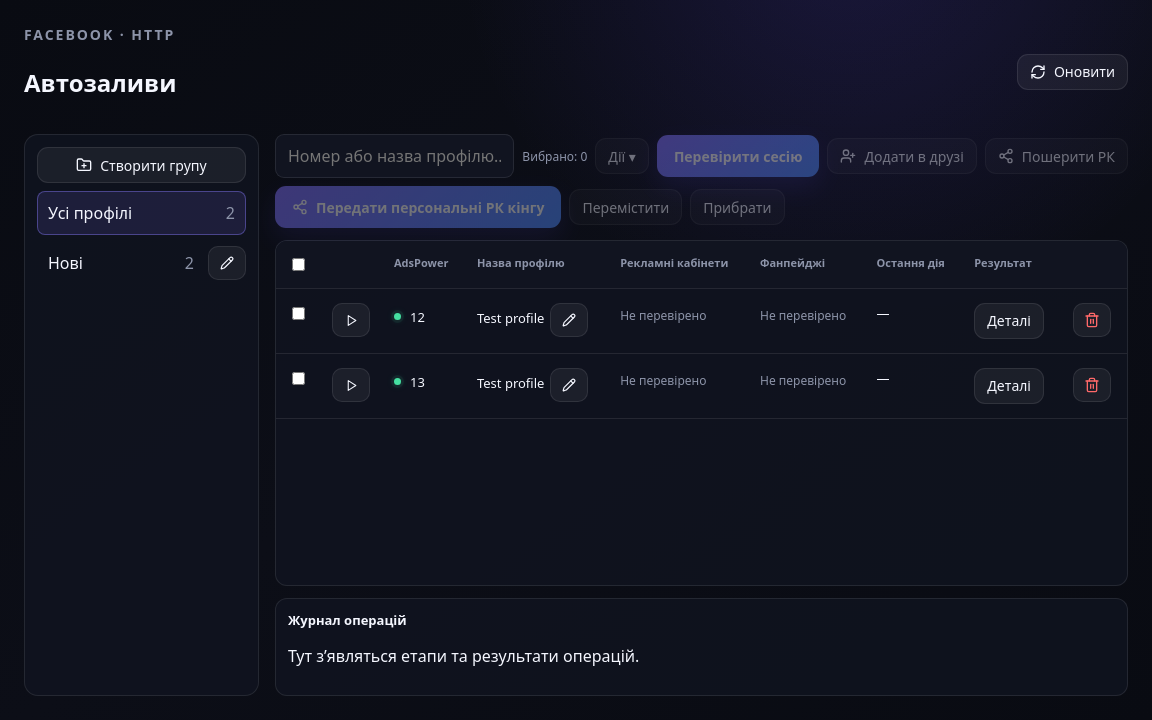
Scenario: дія доступна лише для одного вибраного профілю
The image size is (1152, 720).
Click the checkbox named "Вибрати профіль 12" at (298, 314), box left=292, top=307, right=305, bottom=320
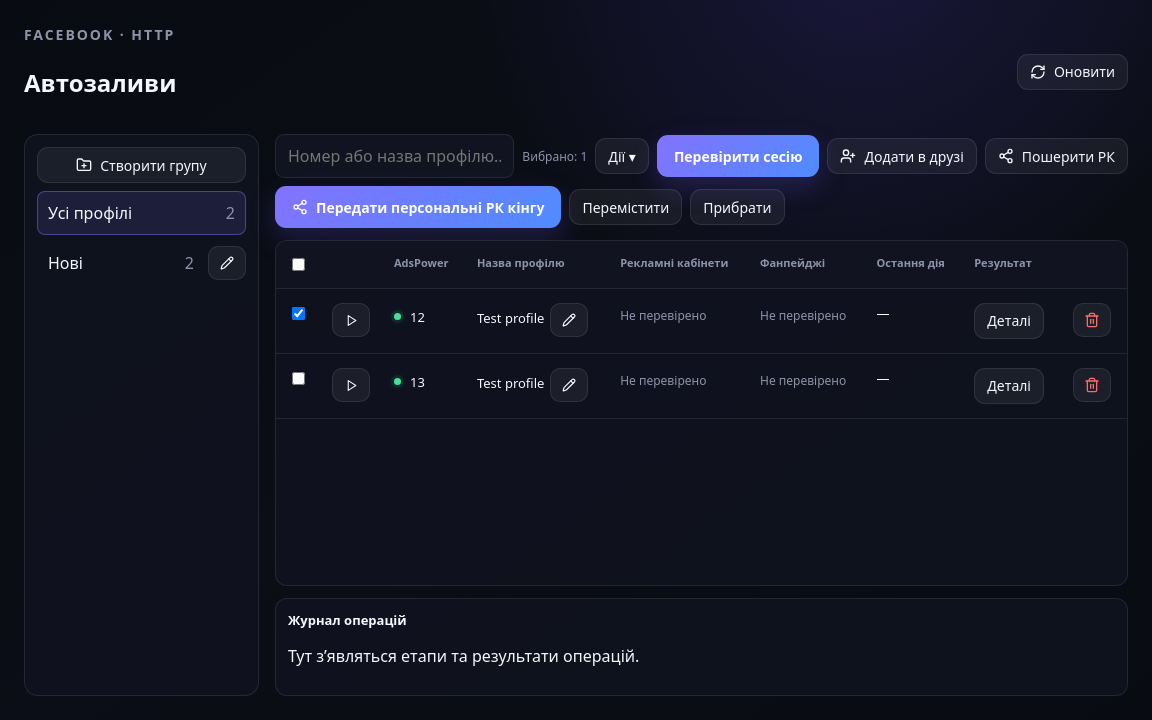
Click the button "Дії ▾" at (622, 156), box left=595, top=138, right=649, bottom=174
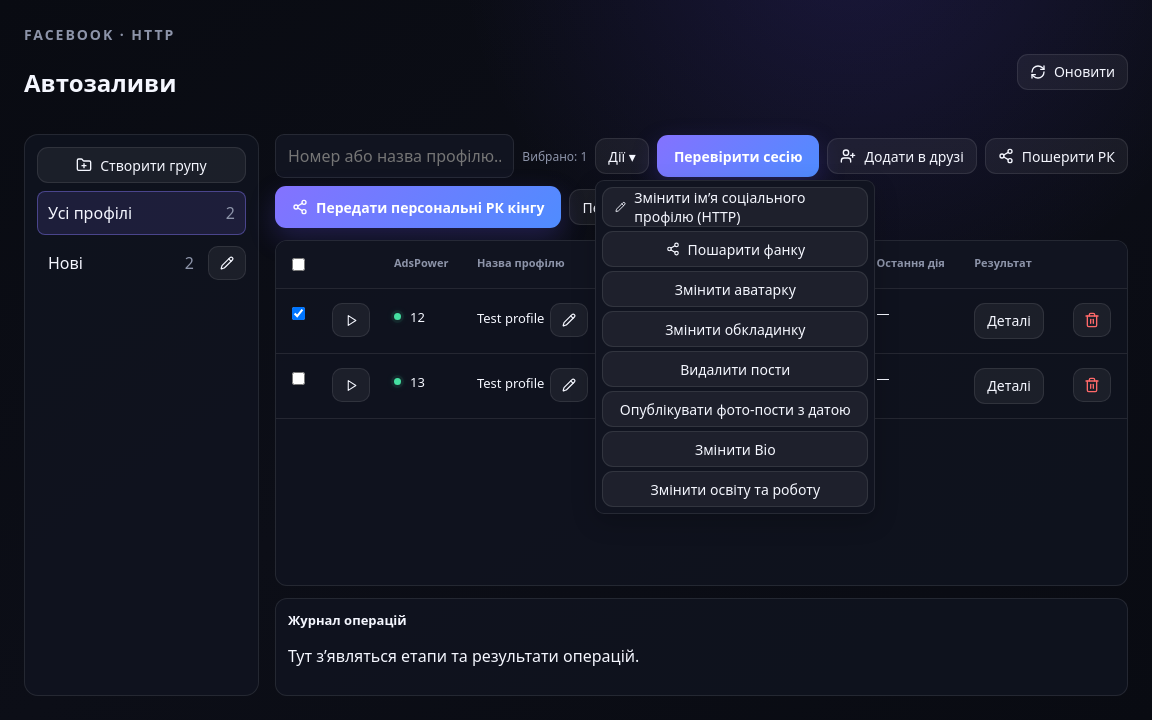
Check: the button "Пошарити фанку" is enabled, box left=602, top=231, right=868, bottom=267
Click the checkbox named "Вибрати профіль 13" at (298, 379), box left=292, top=372, right=305, bottom=385
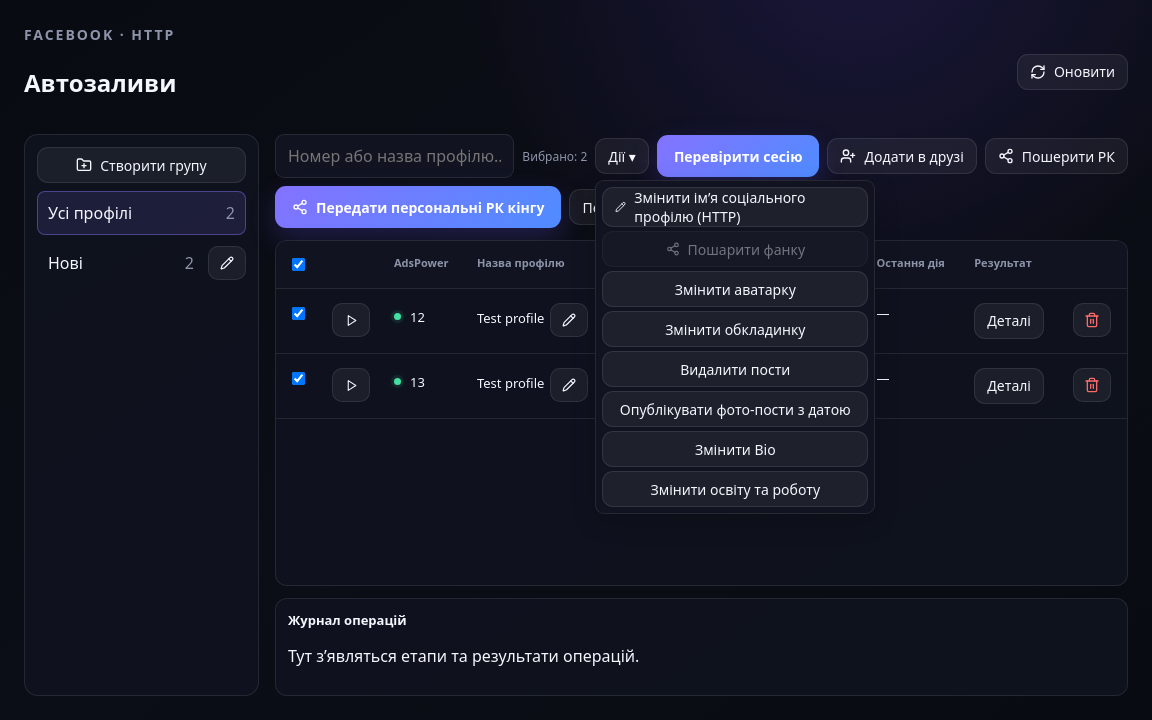
Check: the button "Пошарити фанку" is disabled, box left=602, top=231, right=868, bottom=267
